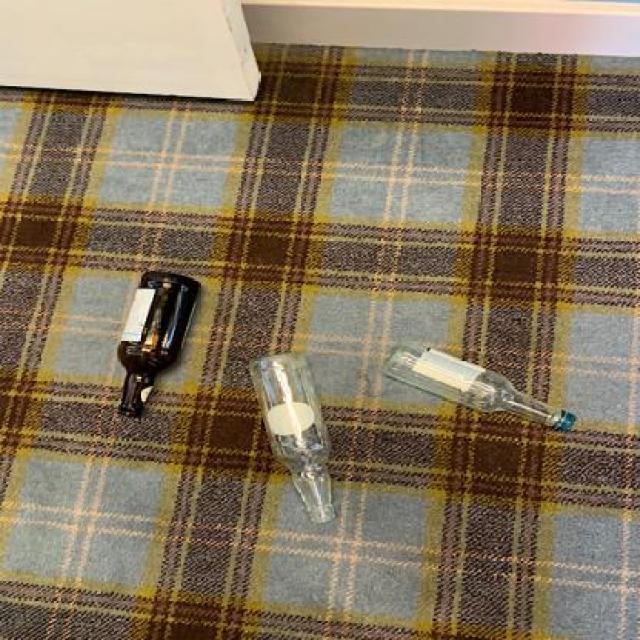trash: (380, 339, 578, 435), (250, 353, 344, 524), (104, 272, 207, 421)
